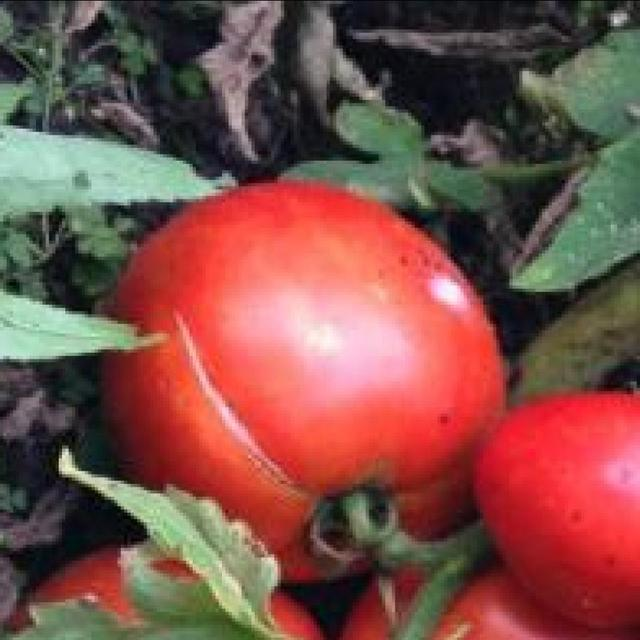Healthy Fruit: (327, 268, 427, 414)
